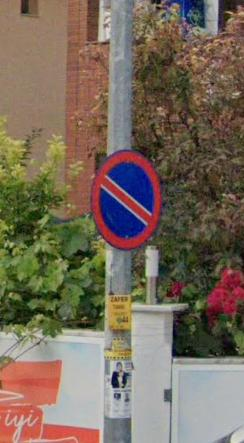nopark: (95, 153, 159, 243)
